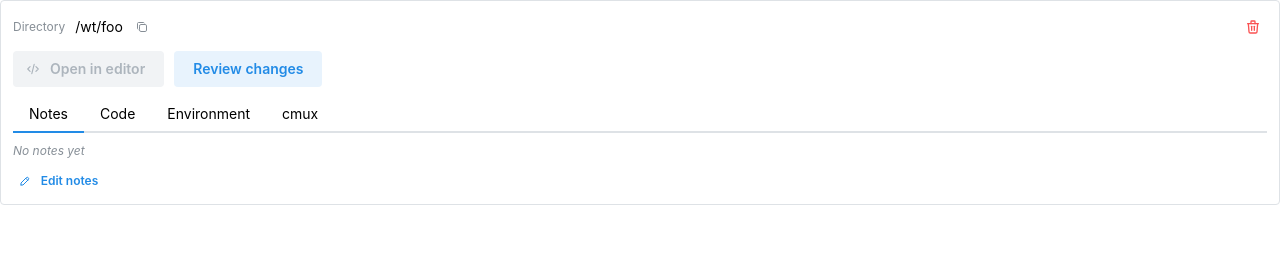
Test: WorktreeDetailCard › keeps the Environment tab when there is no environment, saying so
The image size is (1280, 263).
Click the tab "Environment".
click(209, 115)  # box [151,97,266,133]
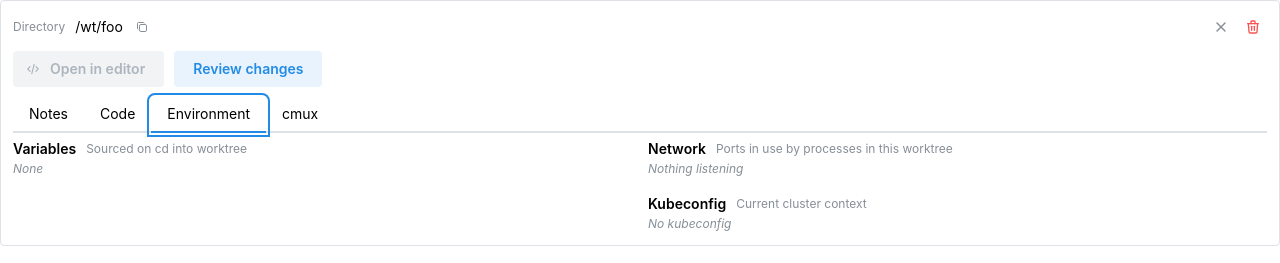
Now the text "None" is shown, box [13,161,43,176]
